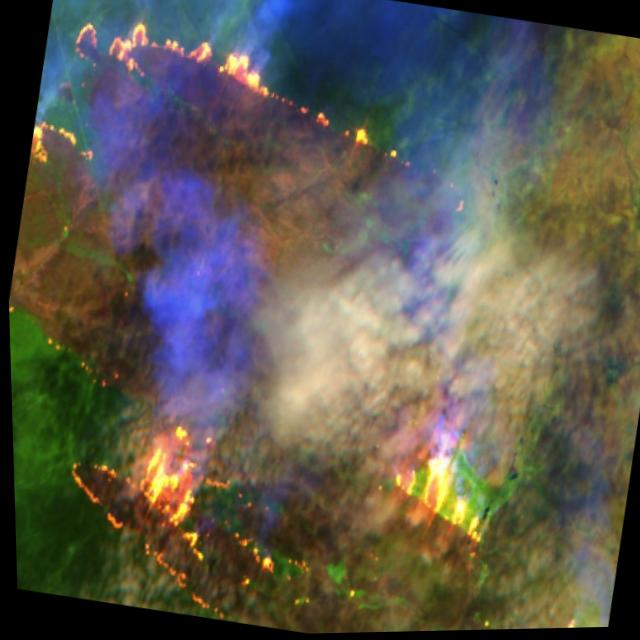fire: (19, 387, 523, 640), (48, 0, 497, 231), (24, 112, 108, 181)
